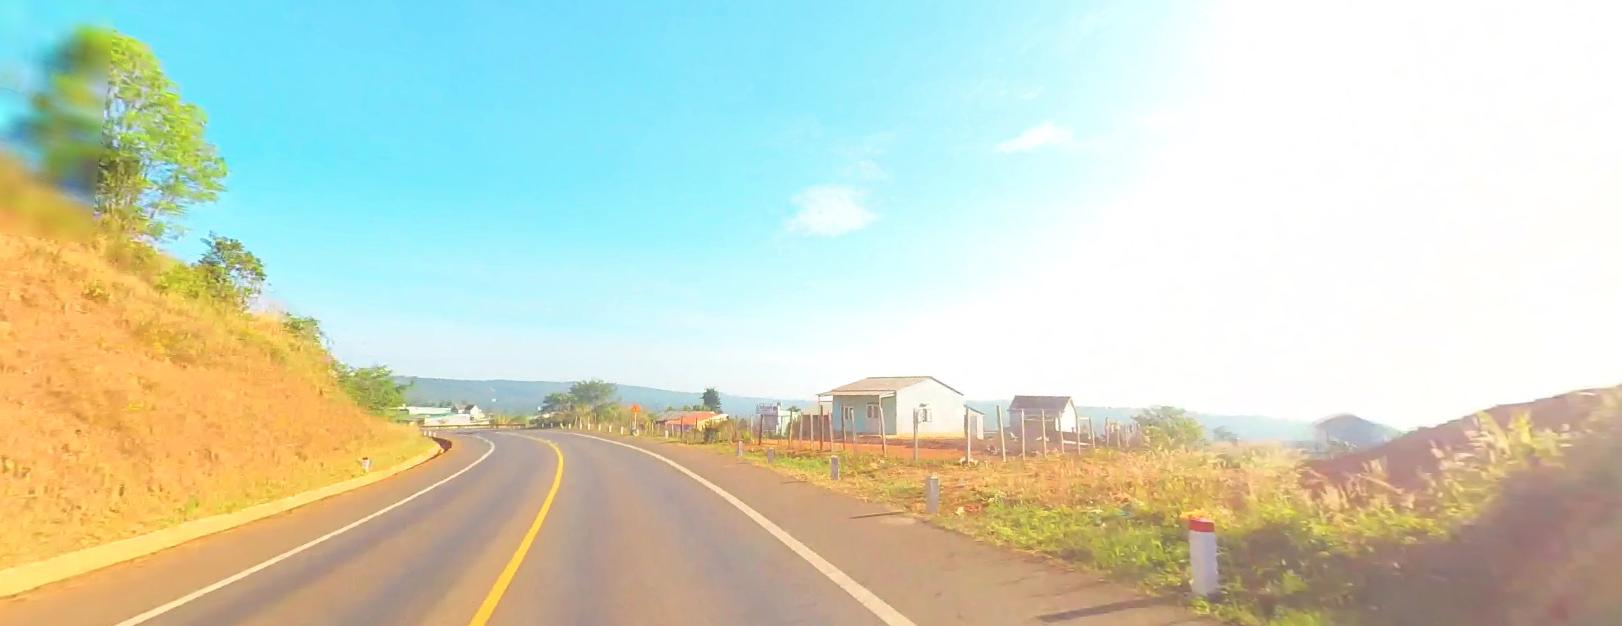Nguy hiem: (630, 403, 640, 411)
